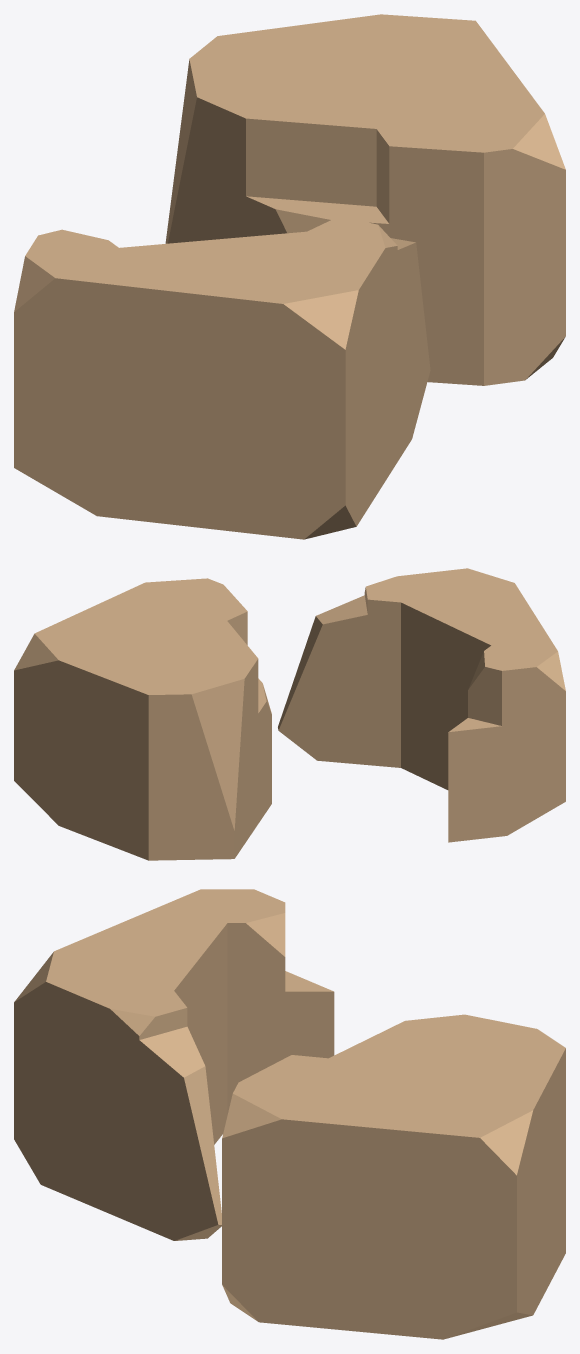
The model's file is Prop_Rubble_2.fbx.
3 renders of one model, top to bottom at view 1: azimuth 30°, elevation 25°; view 2: azimuth 150°, elevation 25°; view 3: azimuth 270°, elevation 25°, orthographic. The views are drawn at different scales.
Parts seen in each view (by area): view 1: object2, object1; view 2: object1, object2; view 3: object1, object2.
Part boxes in pixels (x1,y1,x2,y2): object2: (14,216,430,539); object1: (165,14,565,385); object1: (14,578,271,860); object2: (278,568,565,842); object1: (222,1014,565,1339); object2: (14,889,334,1240).
Bounding box in the file's own units: 0.4128 × 0.15 × 0.3657.
